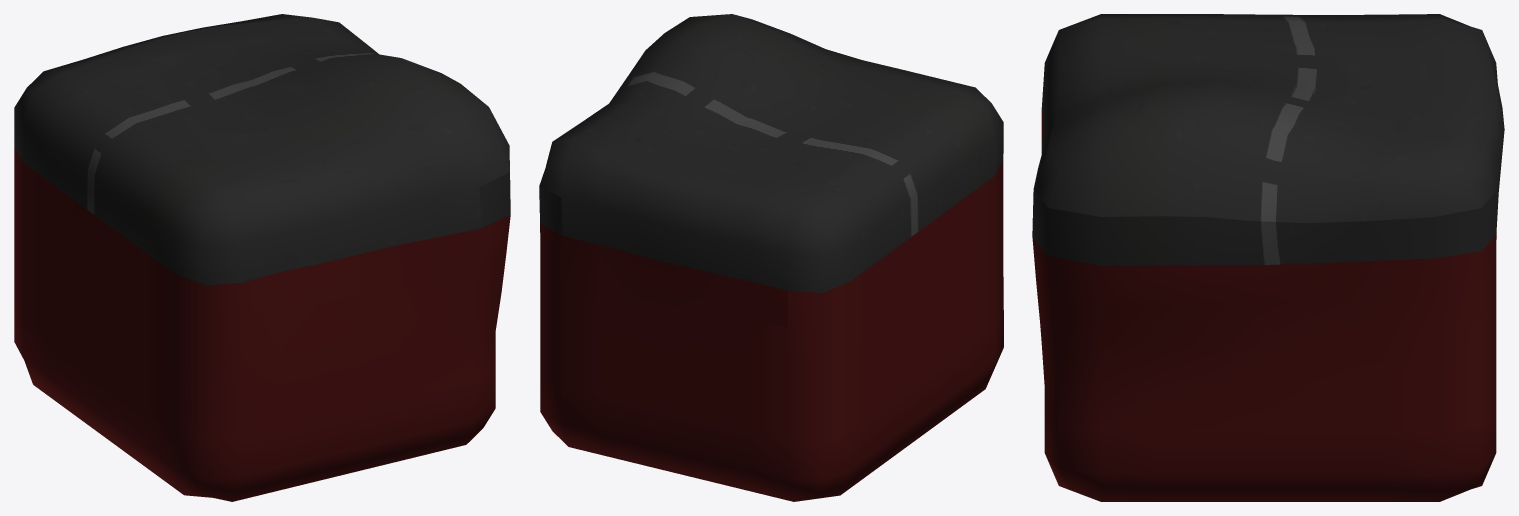
File: RuinedGround_Block_04.fbx
3 renders of one model, left to right at view 1: azimuth 30°, elevation 25°; view 2: azimuth 150°, elevation 25°; view 3: azimuth 270°, elevation 25°, orthographic. The views are drawn at different scales.
Parts seen in each view (by area): view 1: Box012; view 2: Box012; view 3: Box012.
Boxes of the visible parts, <box> form: Box012: <box>14,14,510,501</box>; Box012: <box>539,14,1003,501</box>; Box012: <box>1032,14,1504,501</box>.
Bounding box in the file's own units: 21.5 × 21.09 × 23.25.
